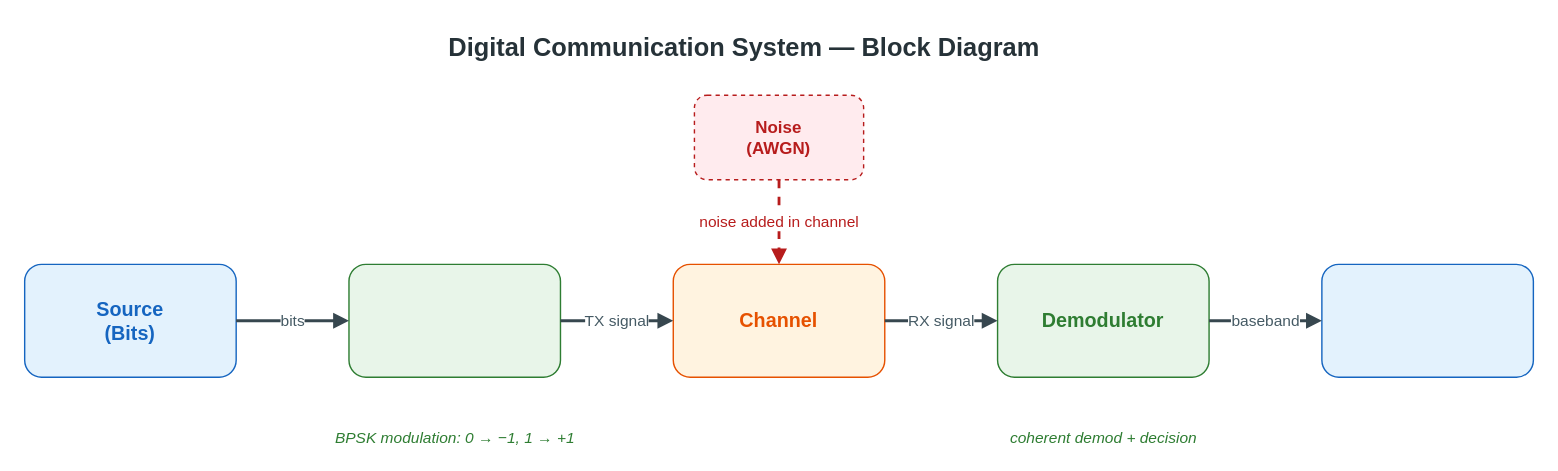
The diagram is 1558 pixels wide and 471 high, and some of its shapes have lost their labels. Here are the shapes that lost their labels. From the top down, the centre of each, then its label:
pixel 454 320: Modulator (BPSK)
pixel 1426 320: Receiver (Bits)
